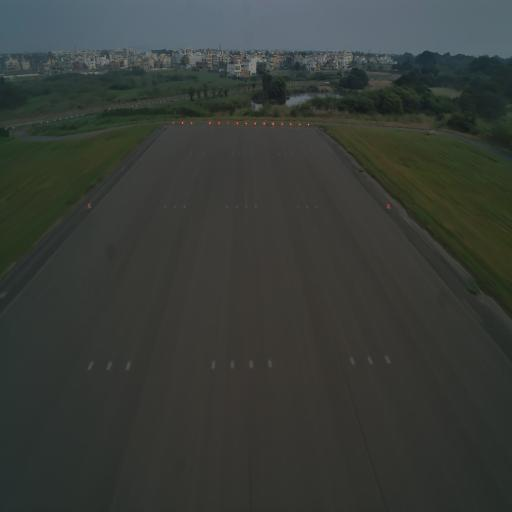off: (85, 354, 97, 378), (363, 350, 376, 372), (122, 356, 134, 378), (264, 354, 276, 375), (104, 354, 114, 377), (246, 352, 256, 374), (228, 355, 238, 376), (206, 357, 218, 374), (382, 349, 392, 368), (348, 350, 356, 368), (172, 201, 177, 212), (162, 202, 168, 211), (182, 204, 188, 212), (244, 202, 250, 210), (252, 202, 258, 210), (225, 202, 230, 211), (235, 202, 239, 212), (305, 202, 309, 210), (314, 202, 318, 210), (296, 202, 299, 209)
on: (386, 201, 391, 212), (87, 202, 92, 211)
